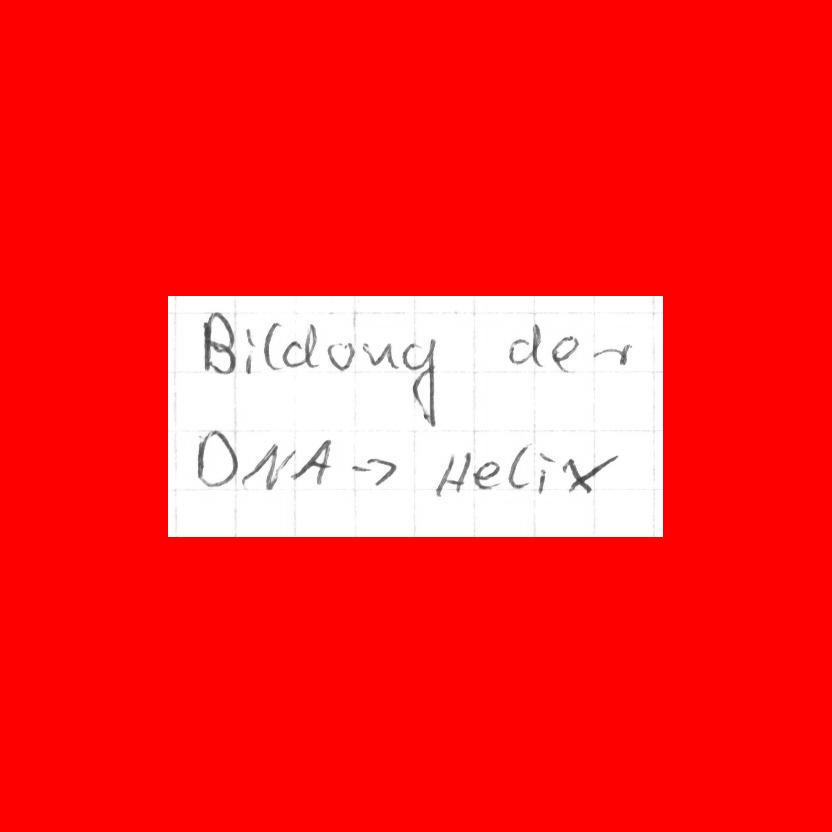Char: (193, 424, 238, 491), (404, 339, 437, 420), (199, 310, 236, 377), (239, 442, 285, 490), (289, 439, 333, 487), (564, 453, 613, 495), (507, 318, 545, 369), (279, 322, 317, 369), (434, 449, 472, 494), (350, 453, 395, 488), (550, 333, 578, 375), (360, 338, 395, 371), (507, 443, 531, 491), (592, 341, 631, 368), (535, 447, 556, 496), (472, 457, 501, 491), (326, 340, 353, 373), (261, 320, 278, 372), (241, 324, 256, 375)
